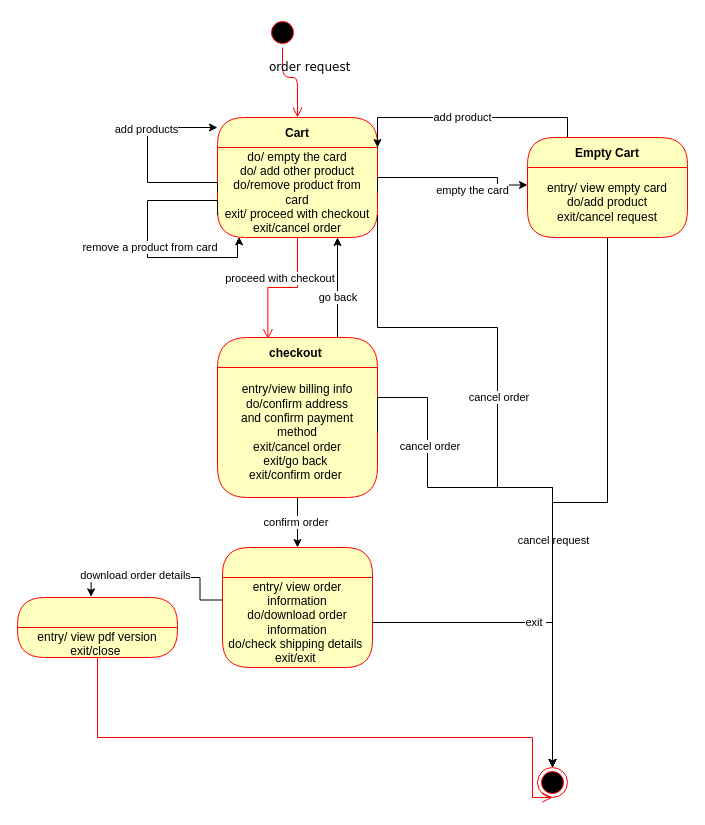
This 705x825 diagram has some shape labels left out. Here are the shapes that lost their labels. From the top down, the box of each, then its label:
(16, 596, 178, 658): View Downloaded order
(222, 546, 372, 668): confirmed order
